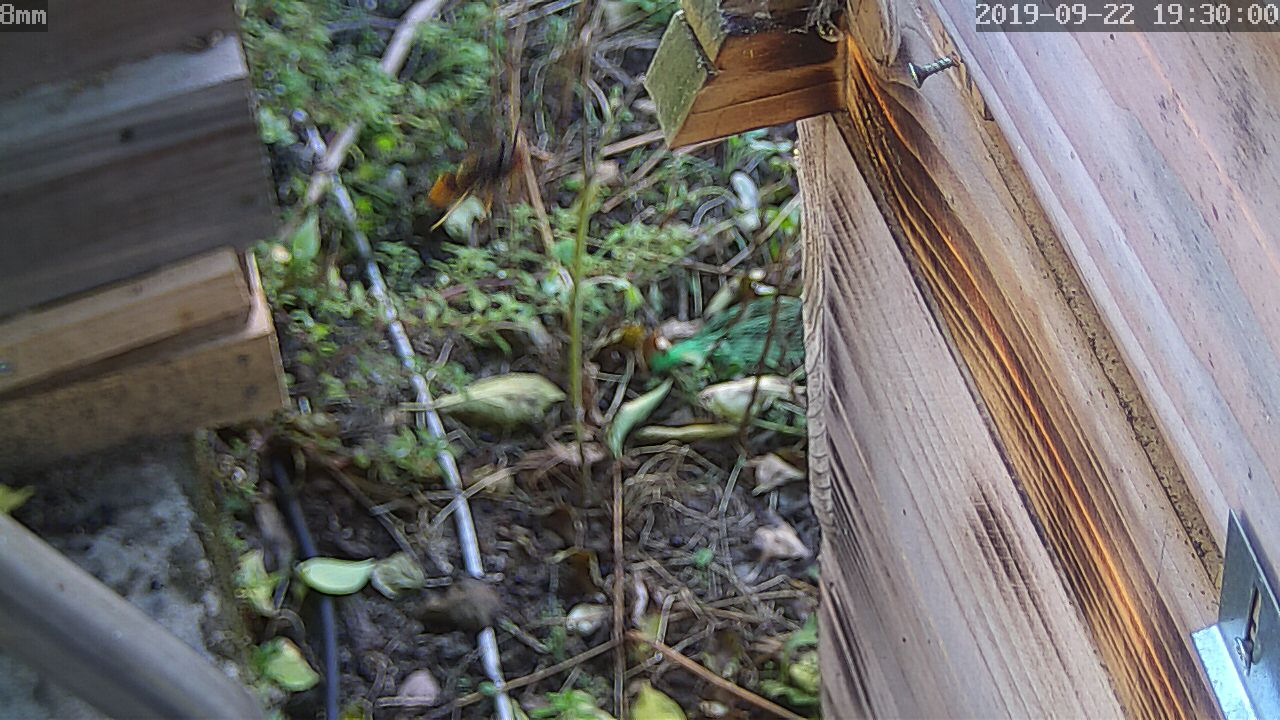hornet: (420, 123, 535, 228)
